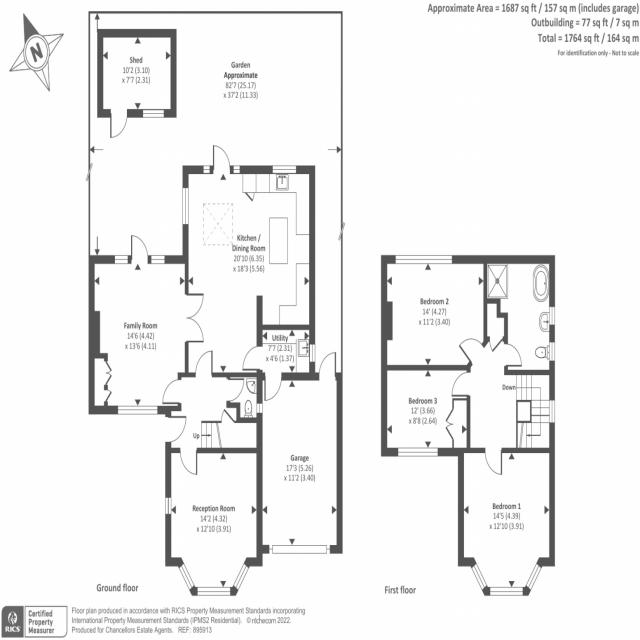DOOR: (458, 337, 485, 366), (165, 415, 187, 443), (130, 234, 149, 264), (264, 372, 283, 402), (451, 371, 472, 397), (242, 345, 263, 371), (213, 144, 231, 174), (194, 350, 213, 378), (484, 447, 502, 476), (162, 379, 182, 404), (180, 448, 198, 475), (504, 343, 523, 368), (226, 377, 245, 402)
ROOM: (182, 144, 315, 381), (88, 235, 204, 415), (165, 448, 263, 597), (458, 447, 555, 596), (381, 255, 488, 369), (381, 364, 472, 456)
WINDOW: (395, 254, 453, 265), (471, 562, 488, 592), (525, 562, 542, 592), (178, 562, 195, 592), (233, 562, 249, 591), (397, 447, 438, 457), (117, 405, 158, 415), (489, 586, 524, 597), (197, 586, 231, 597), (272, 165, 297, 174), (549, 399, 556, 424), (309, 344, 316, 363), (549, 341, 555, 362), (165, 497, 172, 515), (114, 255, 128, 264), (151, 255, 165, 264), (549, 306, 555, 326), (256, 403, 263, 414), (203, 165, 210, 175), (233, 165, 240, 174)
